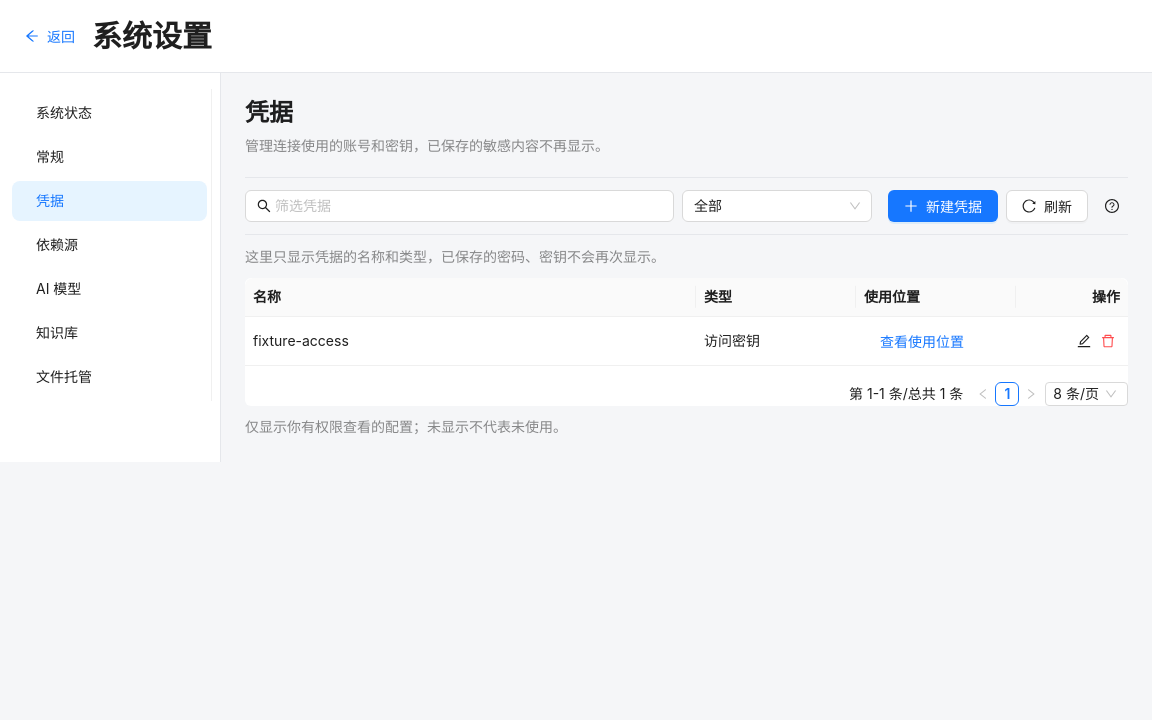
Test case: v3 usage loads real references only when requested and explains permission scope
This screenshot has width=1152, height=720.
Expected: the text "fixture-access" is shown, [253,332,349,349]
Click the button "查看使用位置".
click(922, 341)  # box [864,325,980,357]
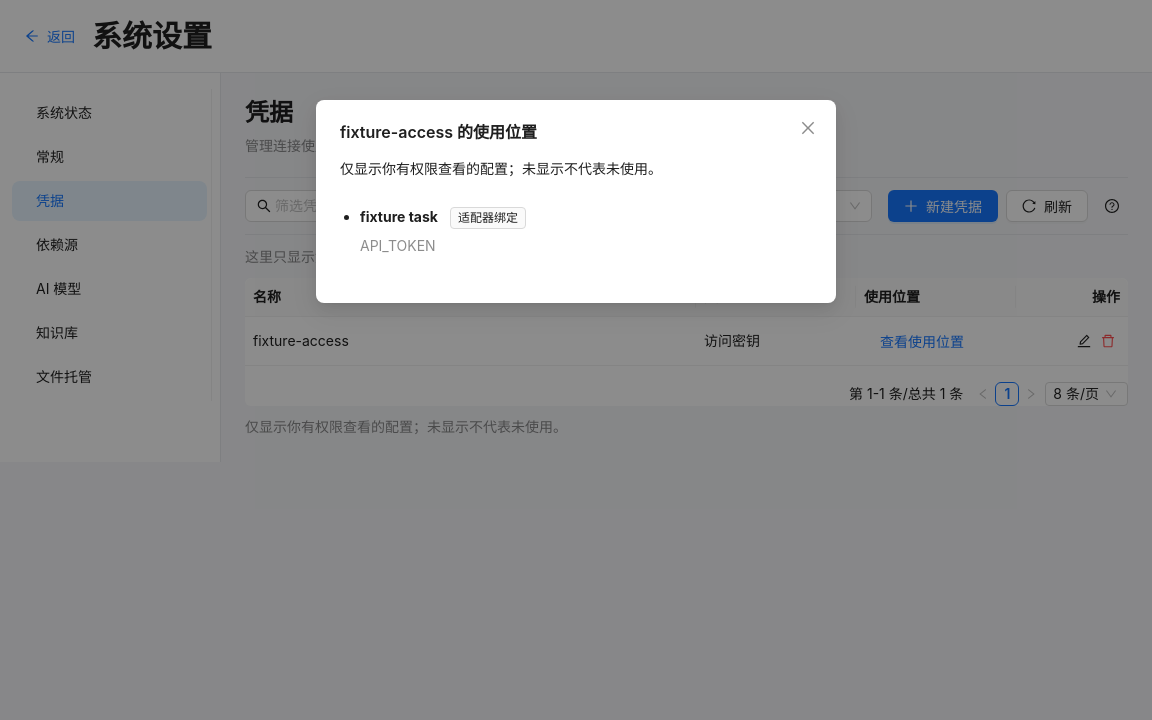
Expected: the text "仅显示你有权限查看的配置；未显示不代表未使用。" below "访问密钥" is shown, [245,418,567,435]
Now the text "fixture task" is shown, box [360,208,438,225]
